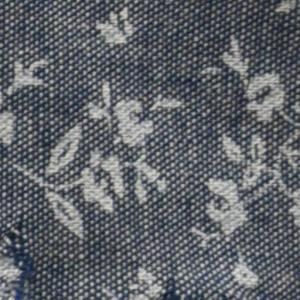Damage: (1, 207, 45, 300)
